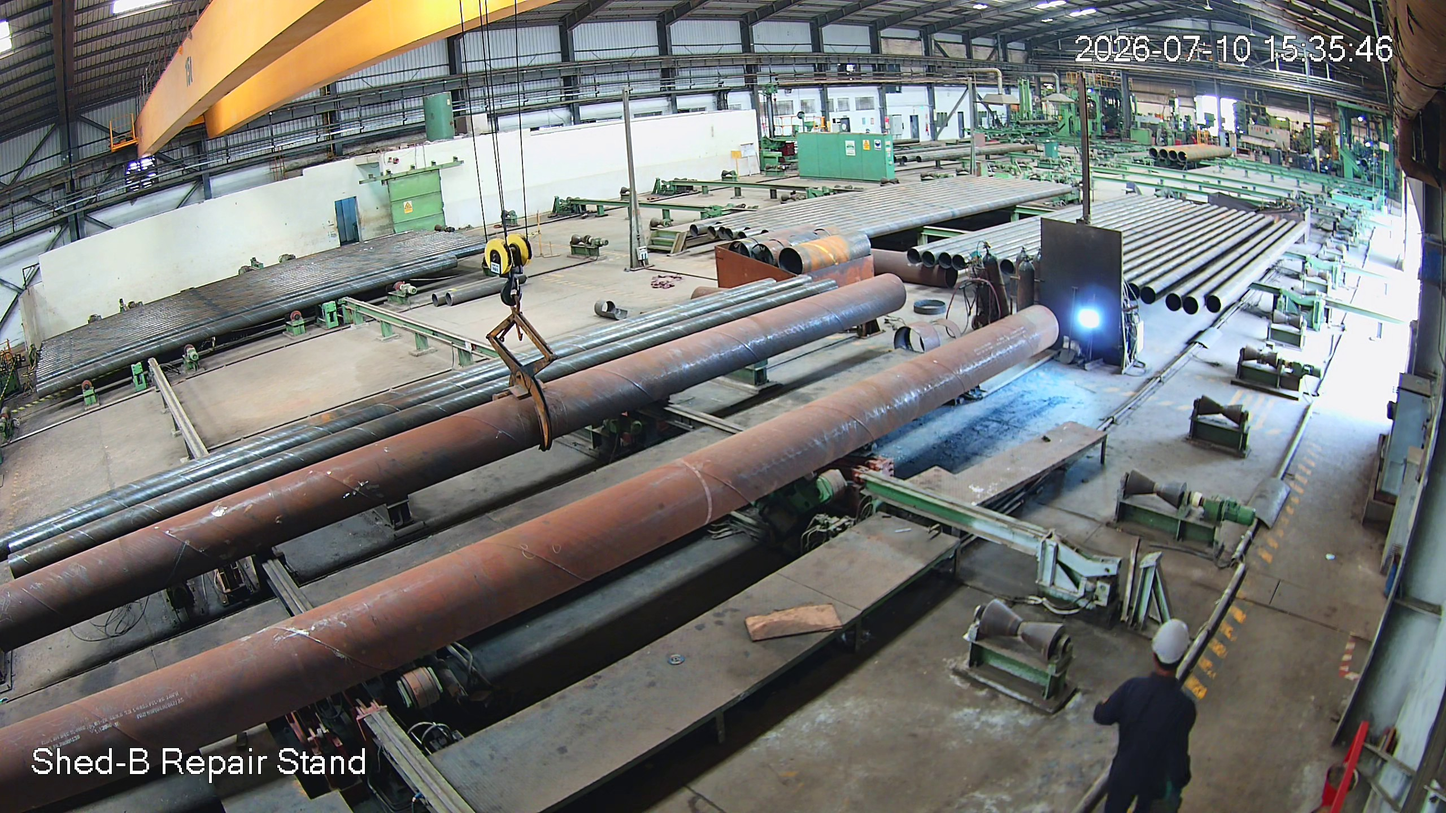Helmet: (1137, 596, 1193, 687)
Person: (1083, 611, 1217, 813)
